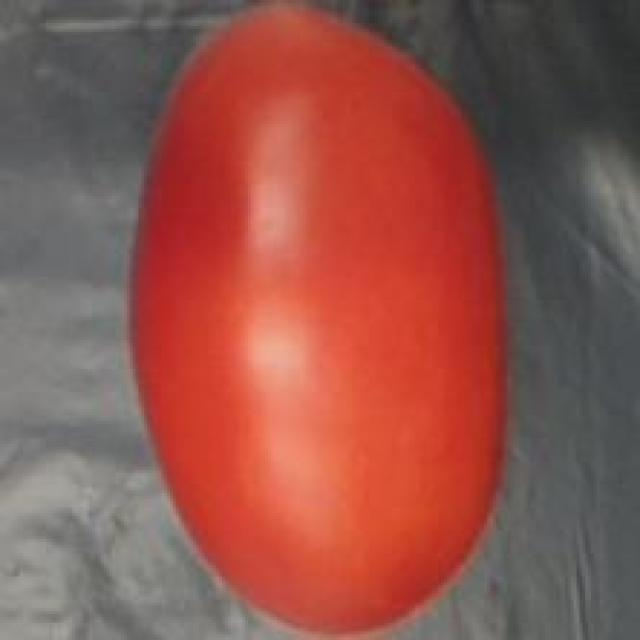ripe tomato: (107, 6, 536, 640)
